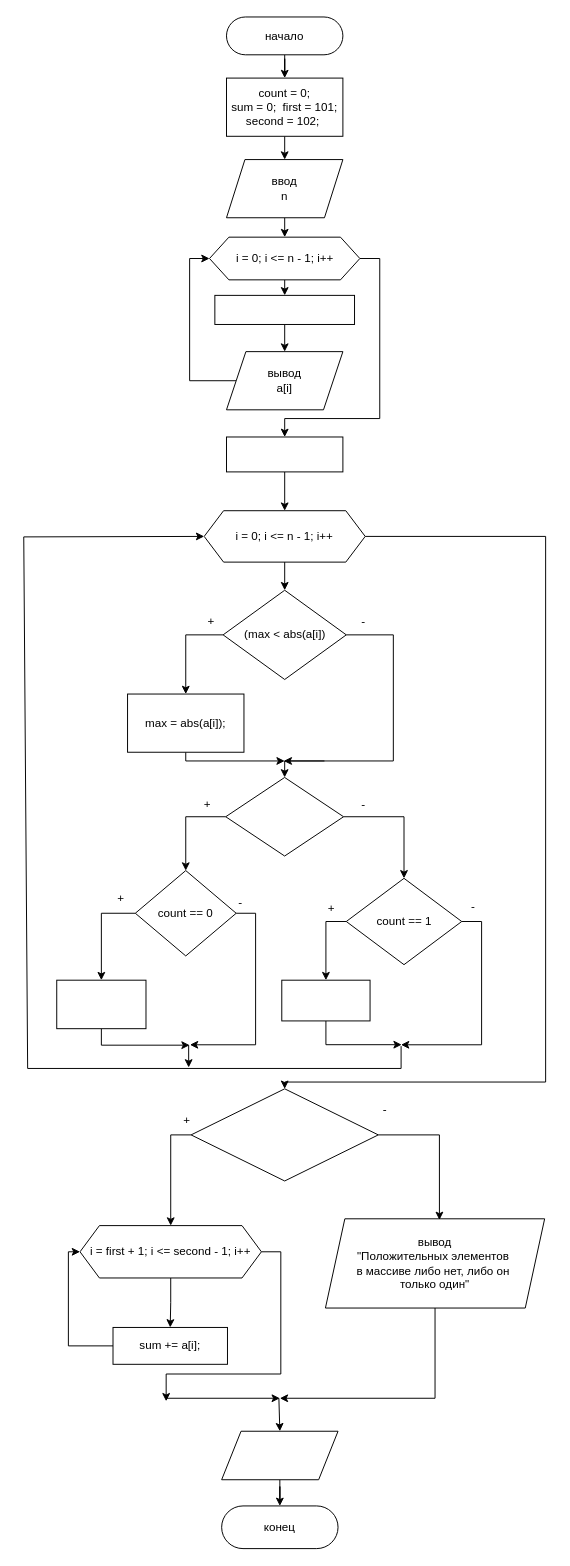
The diagram is 570 pixels wide and 1566 high, and some of its shapes have lost their labels. The shapes that lost their labels are listed below. From the top down, each one's centre as x and y in pixels, then its label:
At (284,309): "a[i] = rand() % 100 - 50;".
At (284,454): "max = a[0]".
At (284,816): "a[i] > 0".
At (101,1004): "first = i; count++;".
At (325,1000): "second = i; count++;".
At (284,1134): "first != 101 && second != 102".
At (279,1455): "вывод max, sum".
